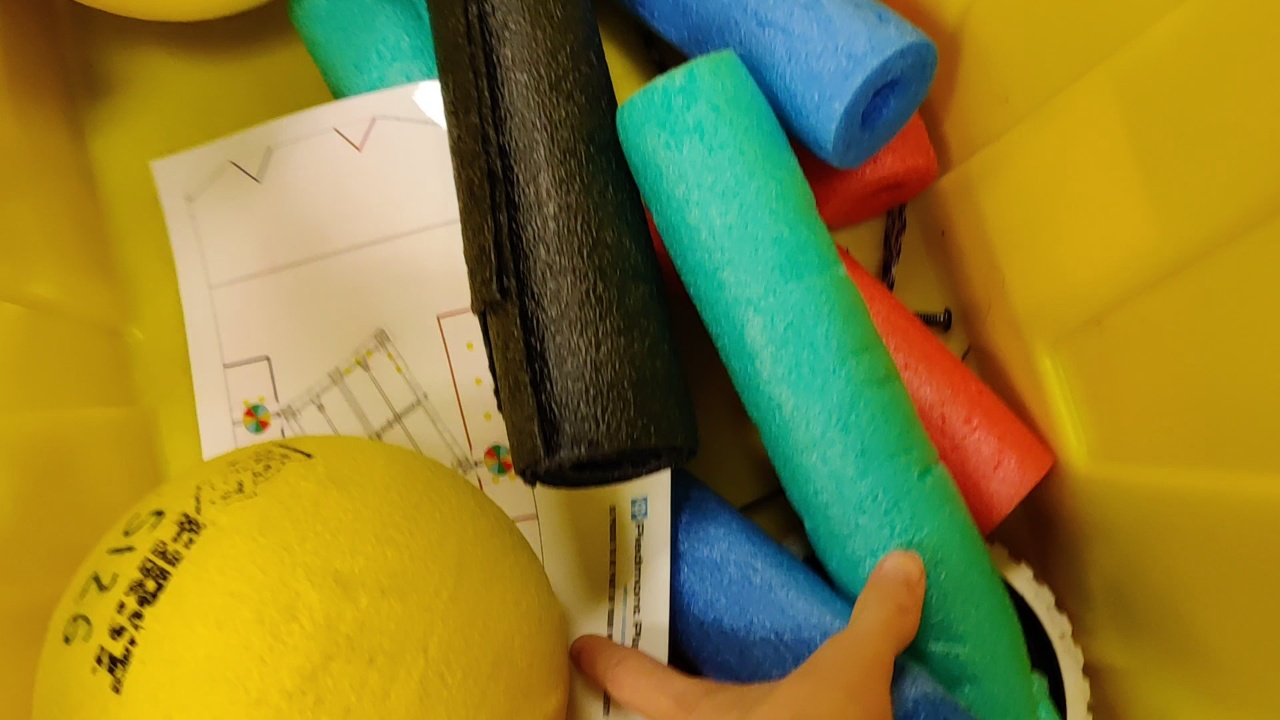Ball: (25, 436, 572, 720)
